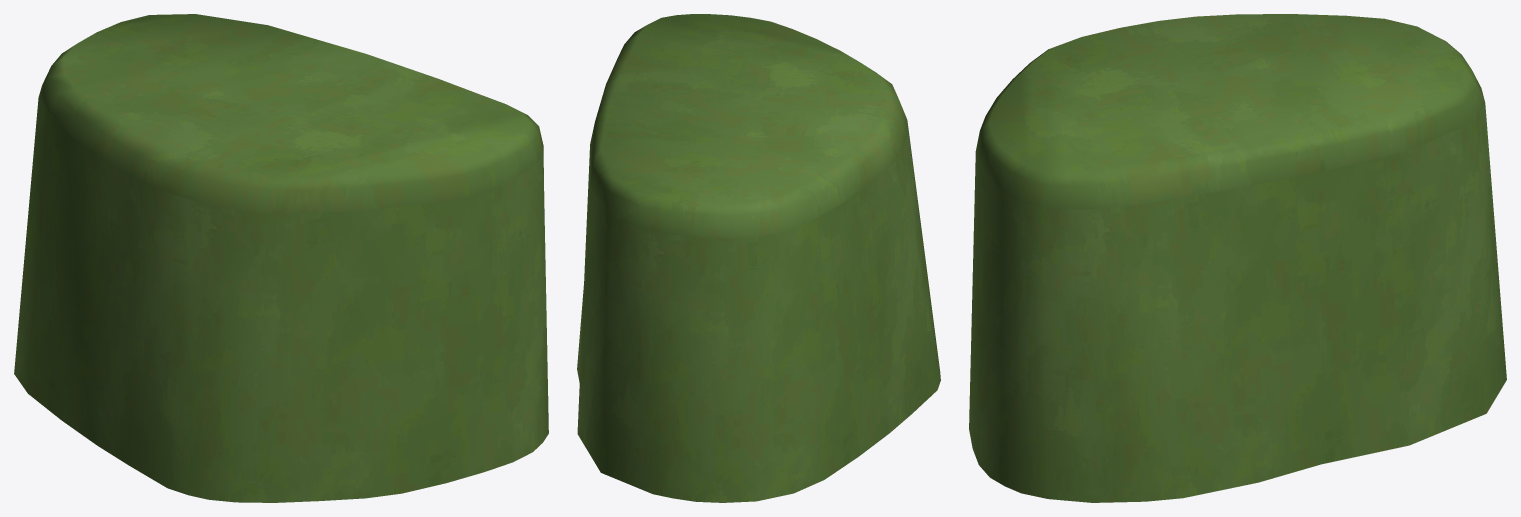
File: Hill.fbx
The picture shows the model from 3 angles, left to right: view 1: azimuth 30°, elevation 25°; view 2: azimuth 150°, elevation 25°; view 3: azimuth 270°, elevation 25°; orthographic projection. The views are drawn at different scales.
Visible parts, largest first — view 1: Hill; view 2: Hill; view 3: Hill.
Boxes of the visible parts, x1=… form: Hill: x1=14, y1=14, x2=548, y2=502; Hill: x1=577, y1=14, x2=940, y2=502; Hill: x1=969, y1=14, x2=1506, y2=502.
Bounding box in the file's own units: 1531 × 1211 × 1855.
